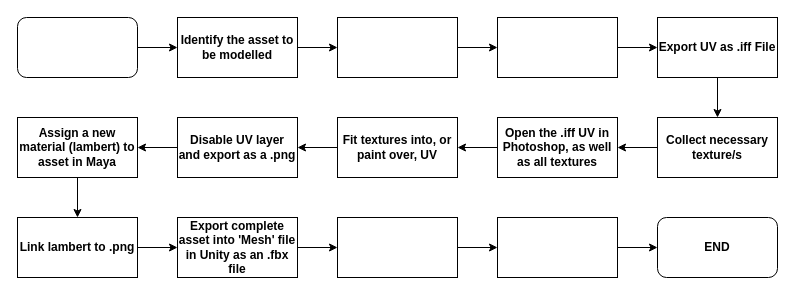
Some shapes in this 795 by 295 pixel diagram are drawn without their labels. The centre of each missing label's shape, as x and y in pixels:
Cut, Unfold and rearrange Asset UV: (557,47)
Model Asset in Maya: (397,47)
Pull mesh into 'Prefabs' as an 'Original prefab': (557,247)
Pull Mesh into Scene and apply all necessary components: (397,247)
START: (77,47)
